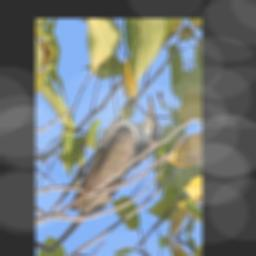Cuckoo: (60, 65, 164, 221)
